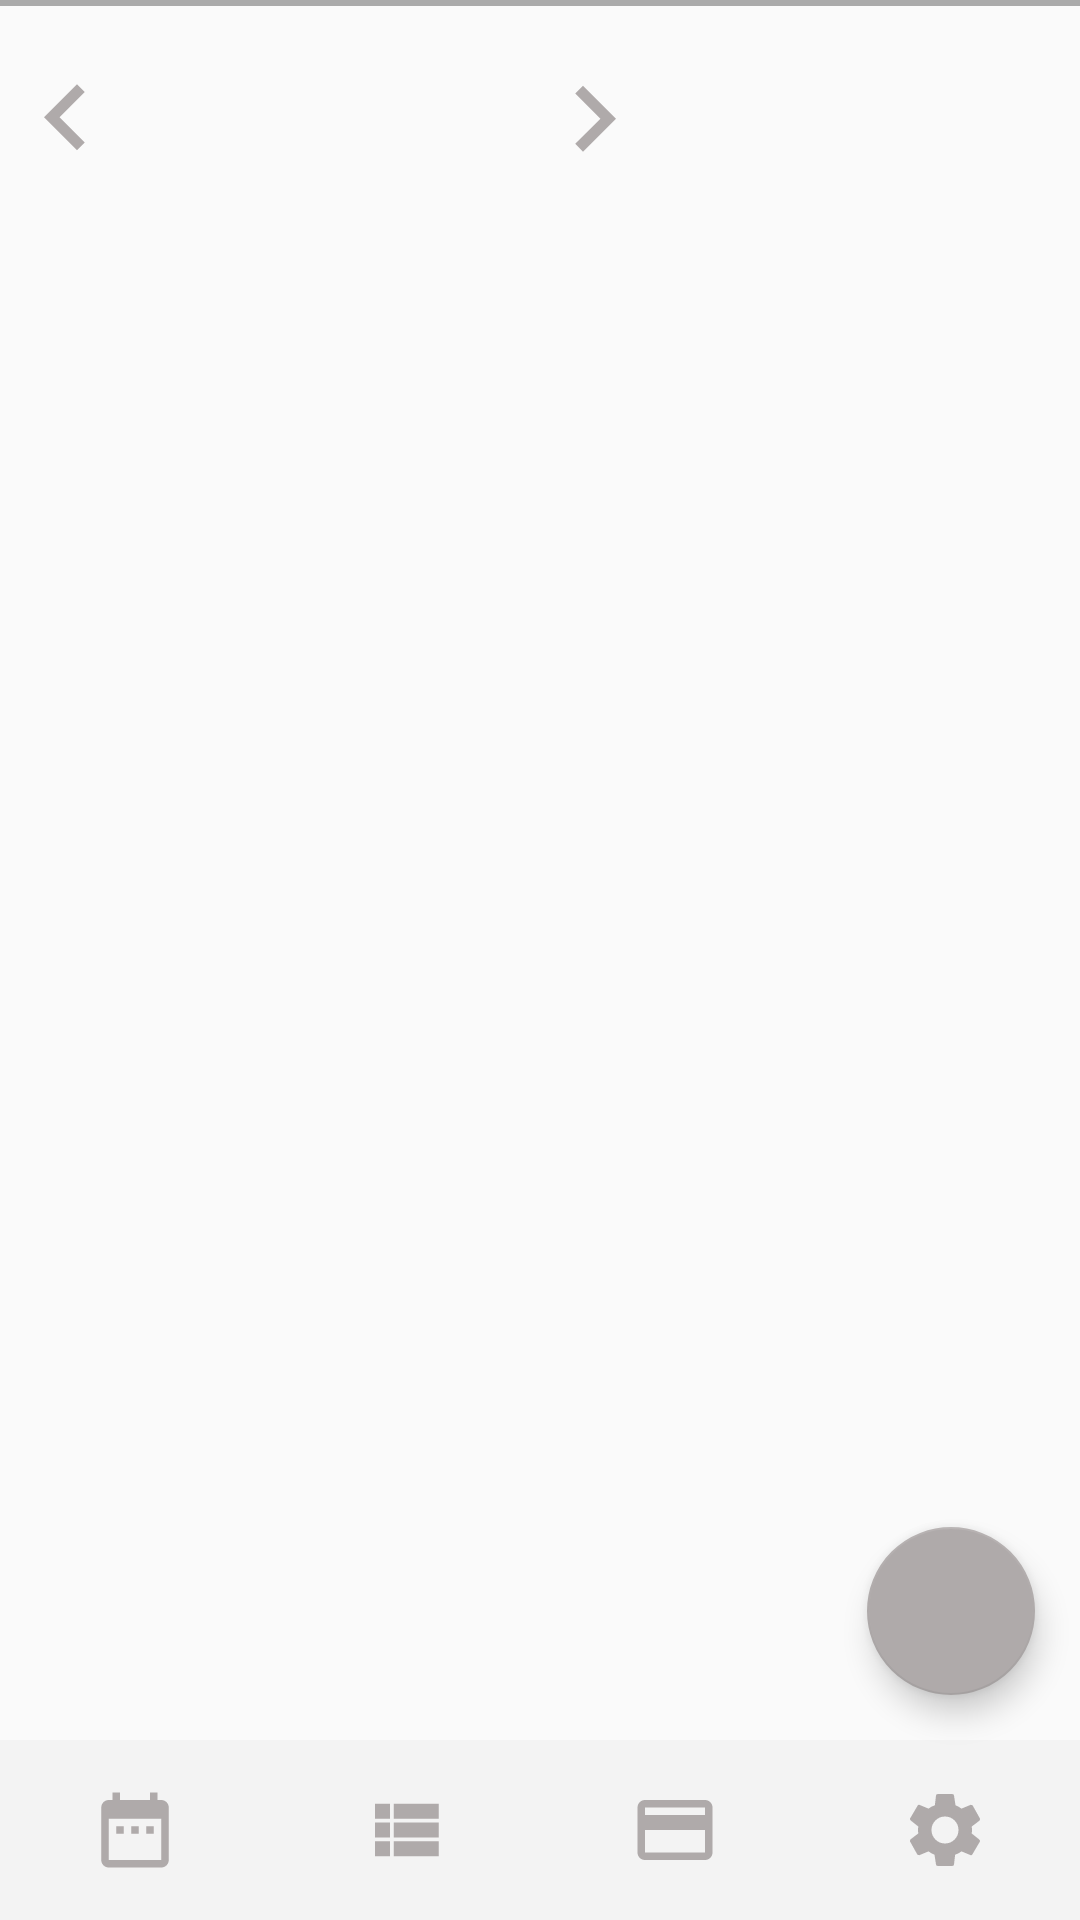

Named icons in this screenshot (1080 x 1920) and their centers, (x,y):
credit card: (675,1830)
date range: (135,1830)
keyboard arrow left: (64,117)
keyboard arrow right: (595,118)
settings: (945,1830)
view list: (407,1830)
